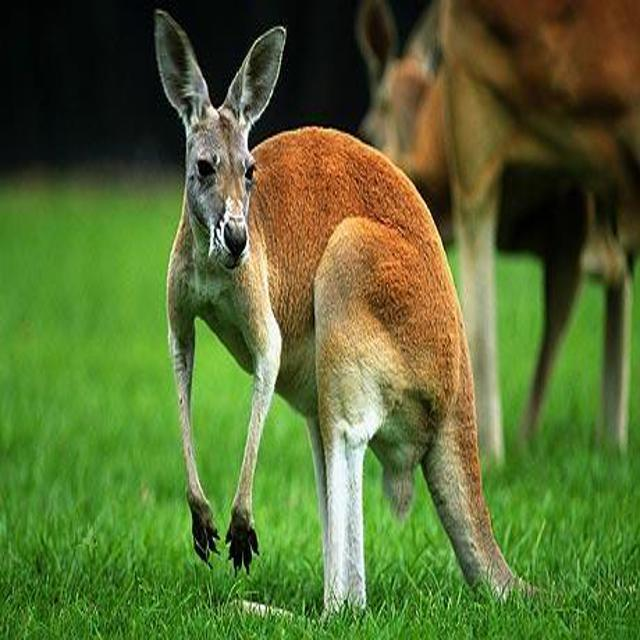kangaroo: (149, 9, 556, 621)
